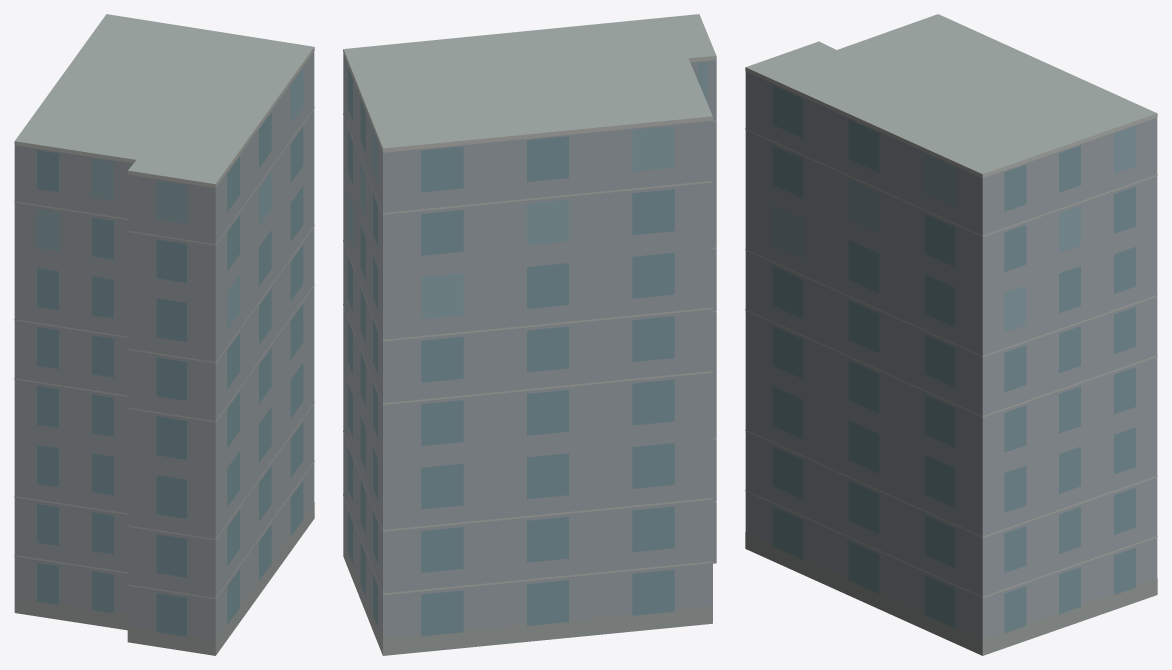
Rendered from survey-upis-32830032.glb.
3 renders of one model, left to right at view 1: azimuth 30°, elevation 25°; view 2: azimuth 150°, elevation 25°; view 3: azimuth 270°, elevation 25°, orthographic. The views are drawn at different scales.
Visible parts, largest first — view 1: survey-upis-32830032.tmp; view 2: survey-upis-32830032.tmp; view 3: survey-upis-32830032.tmp.
Boxes of the visible parts, x1=… form: survey-upis-32830032.tmp: x1=14, y1=14, x2=314, y2=655; survey-upis-32830032.tmp: x1=343, y1=14, x2=716, y2=655; survey-upis-32830032.tmp: x1=745, y1=14, x2=1157, y2=655.
Size of the model in its own units: 20.58 by 28.8 by 22.34.
